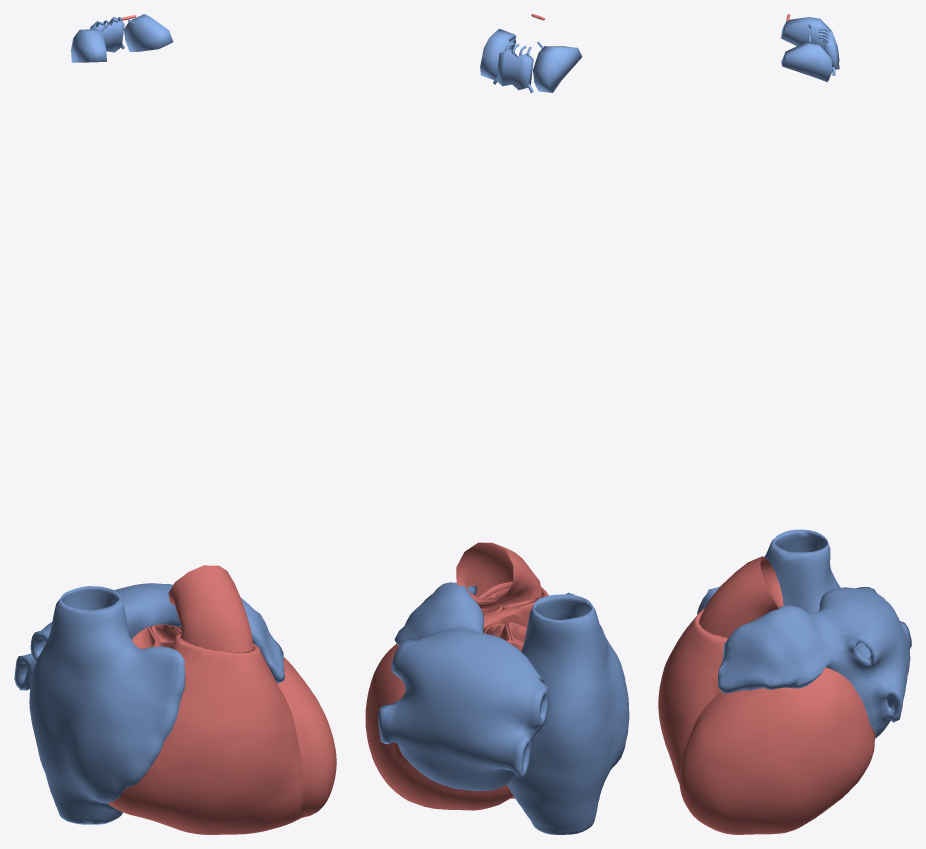
File: vessels.glb
The picture shows the model from 3 angles, left to right: view 1: azimuth 30°, elevation 25°; view 2: azimuth 150°, elevation 25°; view 3: azimuth 270°, elevation 25°; orthographic projection. The views are drawn at different scales.
Visible parts, largest first — view 1: torso, head; view 2: torso, head; view 3: torso, head.
Boxes of the visible parts, left/top/right/bottom form: torso: left=14, top=565, right=336, bottom=834; head: left=71, top=14, right=173, bottom=62; torso: left=365, top=542, right=629, bottom=834; head: left=480, top=14, right=582, bottom=93; torso: left=658, top=529, right=911, bottom=834; head: left=781, top=14, right=839, bottom=82.
Size of the model in its own units: 0.1192 by 0.3739 by 0.1129.
